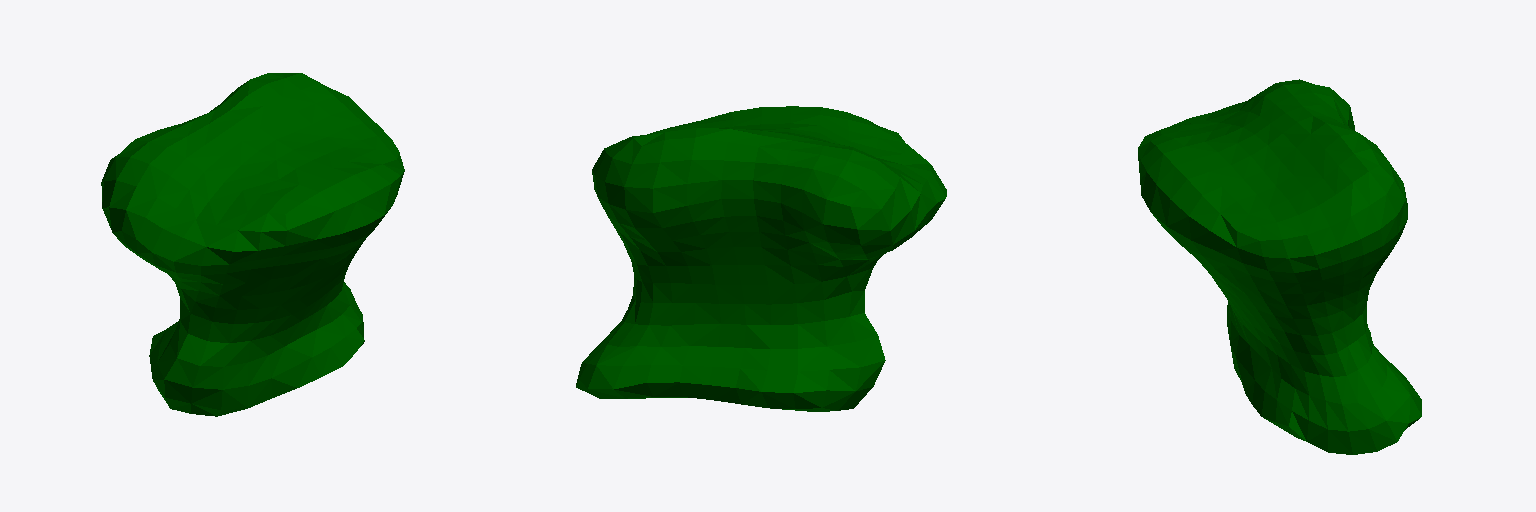
File: MiddlePhalanx_4.obj
The picture shows the model from 3 angles: view 1: azimuth 30°, elevation 25°; view 2: azimuth 150°, elevation 25°; view 3: azimuth 270°, elevation 25°; orthographic projection.
Visible parts, largest first — view 1: Object_0MiddlePhalanx_4; view 2: Object_0MiddlePhalanx_4; view 3: Object_0MiddlePhalanx_4.
Part boxes in pixels (x1,y1,x2,y2): Object_0MiddlePhalanx_4: (101, 73, 404, 416); Object_0MiddlePhalanx_4: (576, 106, 946, 411); Object_0MiddlePhalanx_4: (1138, 79, 1421, 454).
Size of the model in its own units: 7.62 by 6.93 by 6.38.